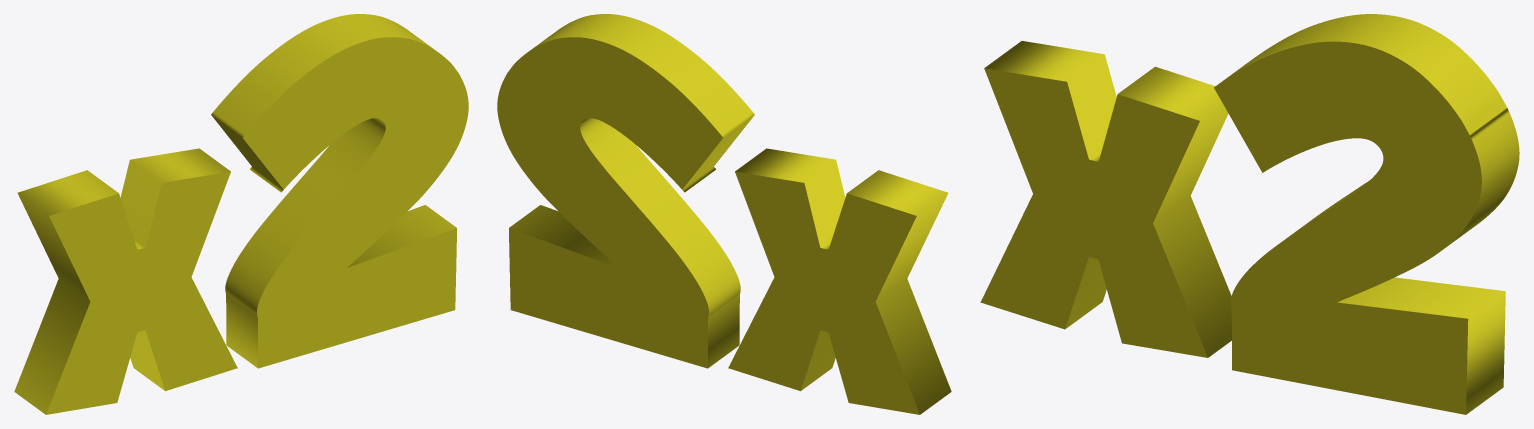
3 renders of one model, left to right at view 1: azimuth 30°, elevation 25°; view 2: azimuth 150°, elevation 25°; view 3: azimuth 330°, elevation 25°, orthographic. The views are drawn at different scales.
Parts seen in each view (by area): view 1: Text; view 2: Text; view 3: Text.
Boxes of the visible parts, x1=… form: Text: x1=14, y1=14, x2=468, y2=414; Text: x1=497, y1=14, x2=951, y2=414; Text: x1=980, y1=14, x2=1519, y2=414.
Bounding box in the file's own units: 81.27 × 55.36 × 10.56.
